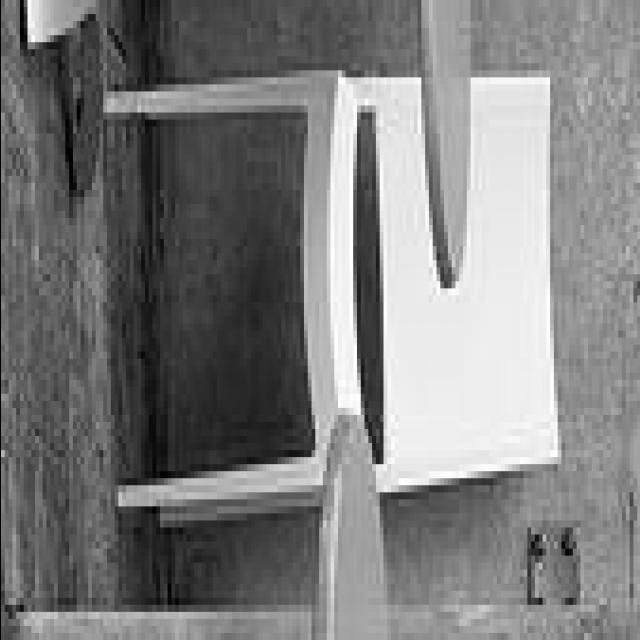chair: (101, 78, 562, 518)
